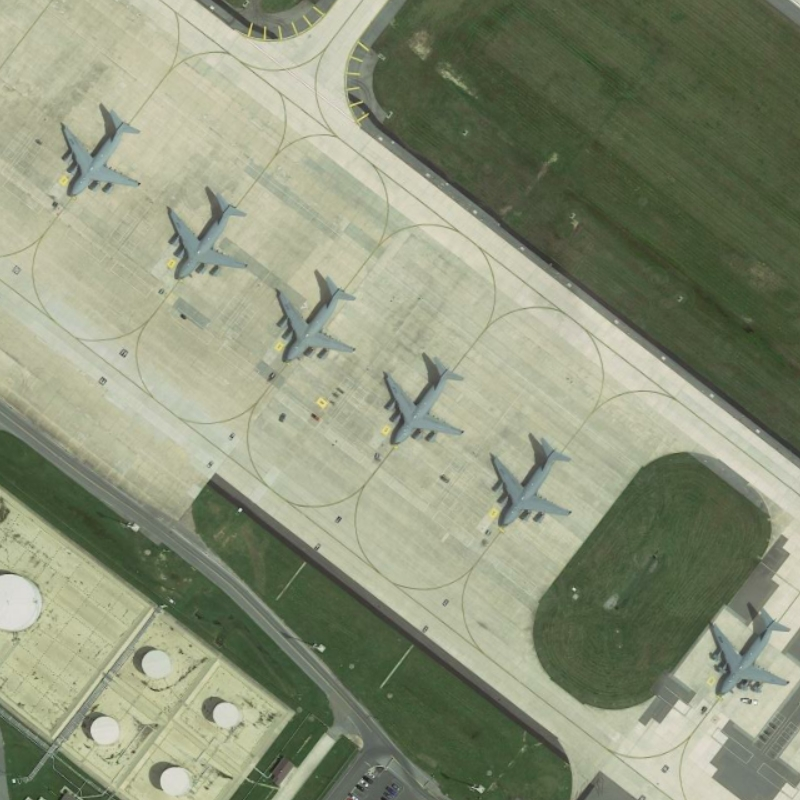A3: (156, 180, 257, 290), (697, 600, 793, 705), (376, 349, 469, 456), (50, 102, 146, 205), (483, 430, 576, 533), (270, 267, 359, 372)
